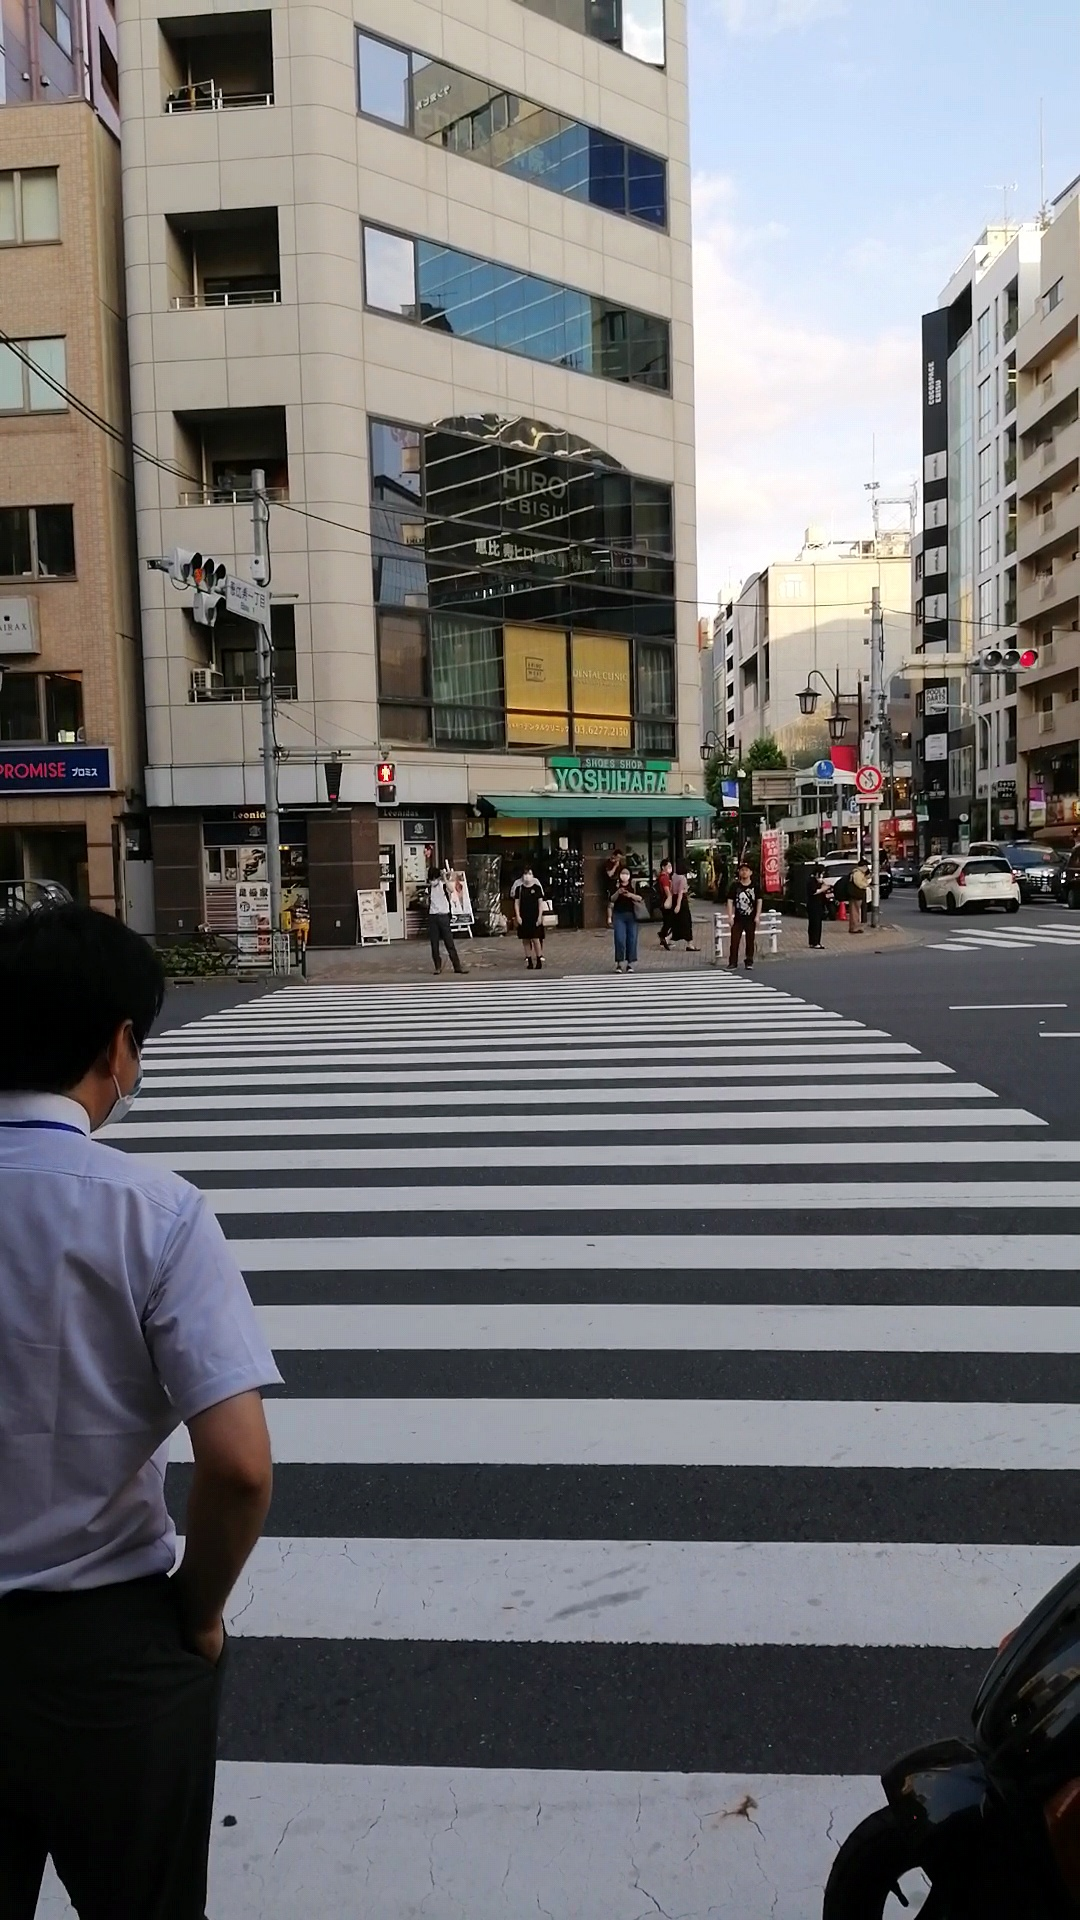red: (372, 760, 400, 806)
